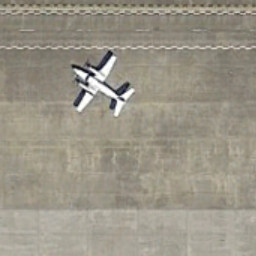Airplane: (44, 42, 143, 132)
